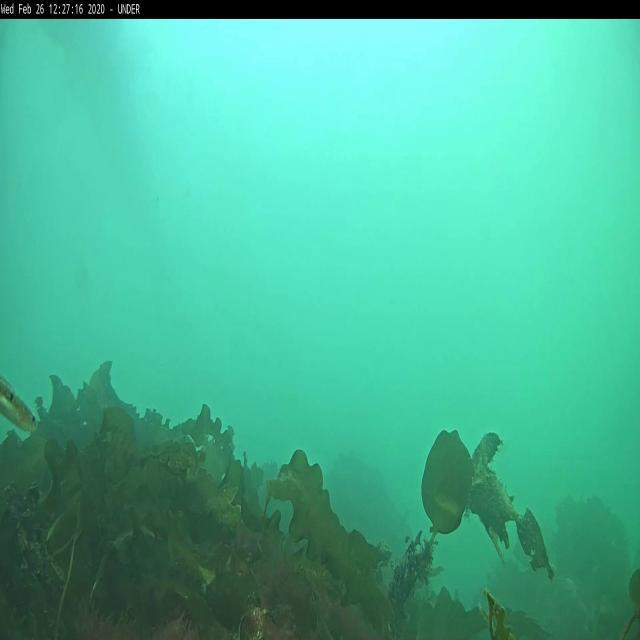fish: (2, 377, 37, 437)
